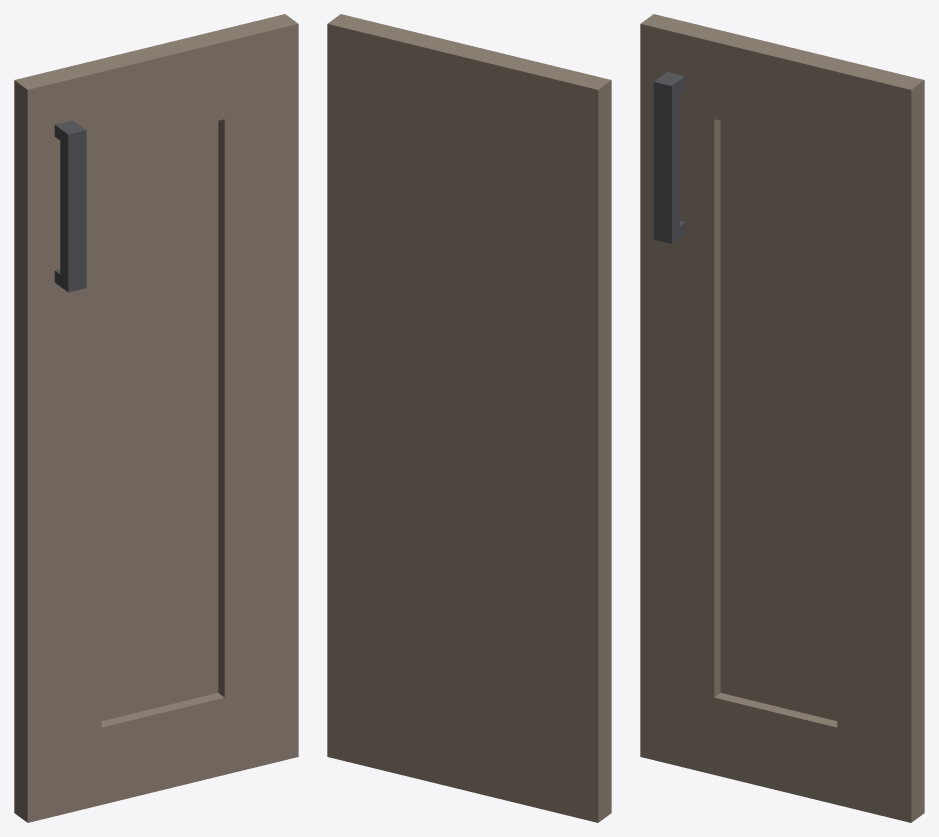
File: Door2_C5_03.fbx
3 views of the same model, side by side, from view 1: azimuth 30°, elevation 25°; view 2: azimuth 150°, elevation 25°; view 3: azimuth 330°, elevation 25° (orthographic).
Visible parts, largest first — view 1: Door2_C5_03; view 2: Door2_C5_03; view 3: Door2_C5_03.
Boxes of the visible parts, x1=… form: Door2_C5_03: x1=14, y1=14, x2=298, y2=822; Door2_C5_03: x1=327, y1=14, x2=611, y2=822; Door2_C5_03: x1=640, y1=14, x2=924, y2=822.
Bounding box in the file's own units: 29 × 75 × 5.03.
